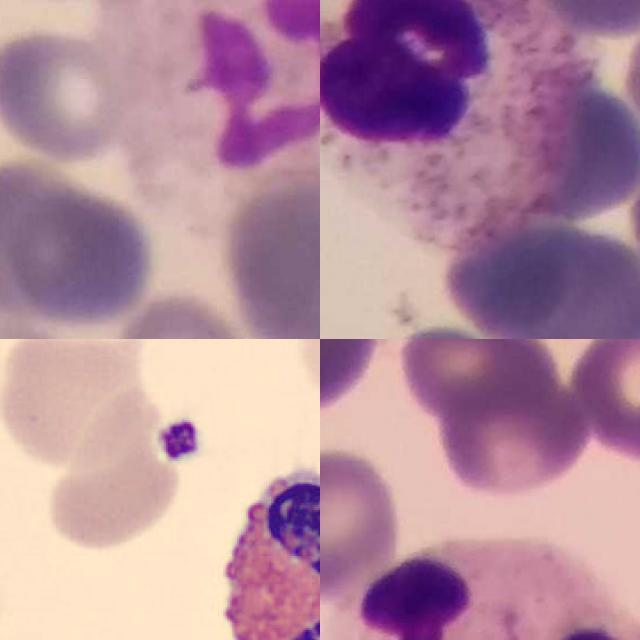Eosinophil: (196, 448, 320, 640)
Neutrophil: (320, 0, 578, 241), (109, 0, 320, 198), (336, 538, 640, 640)
Platelets: (154, 415, 207, 466)
